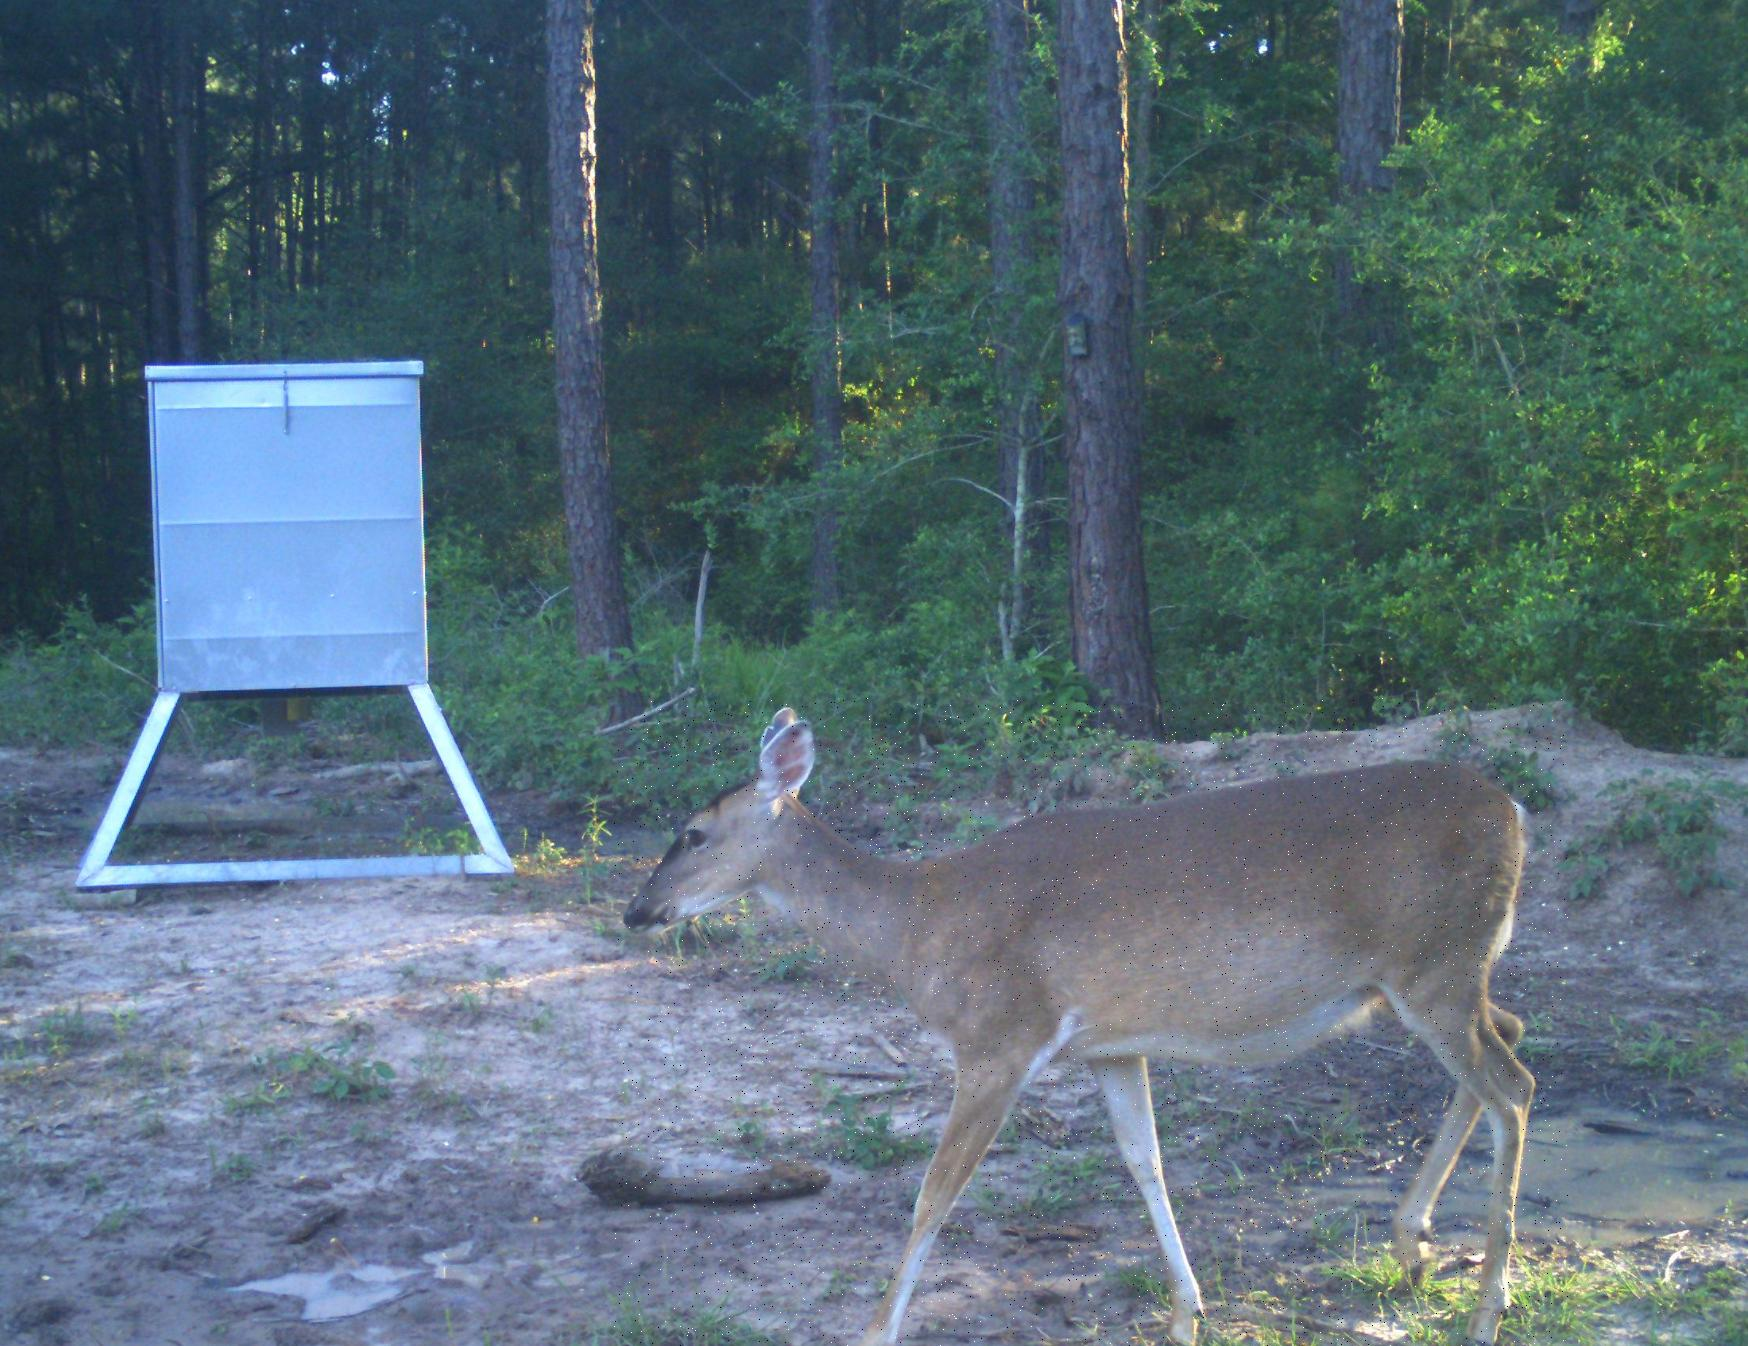Deer: (614, 698, 1568, 1346)
